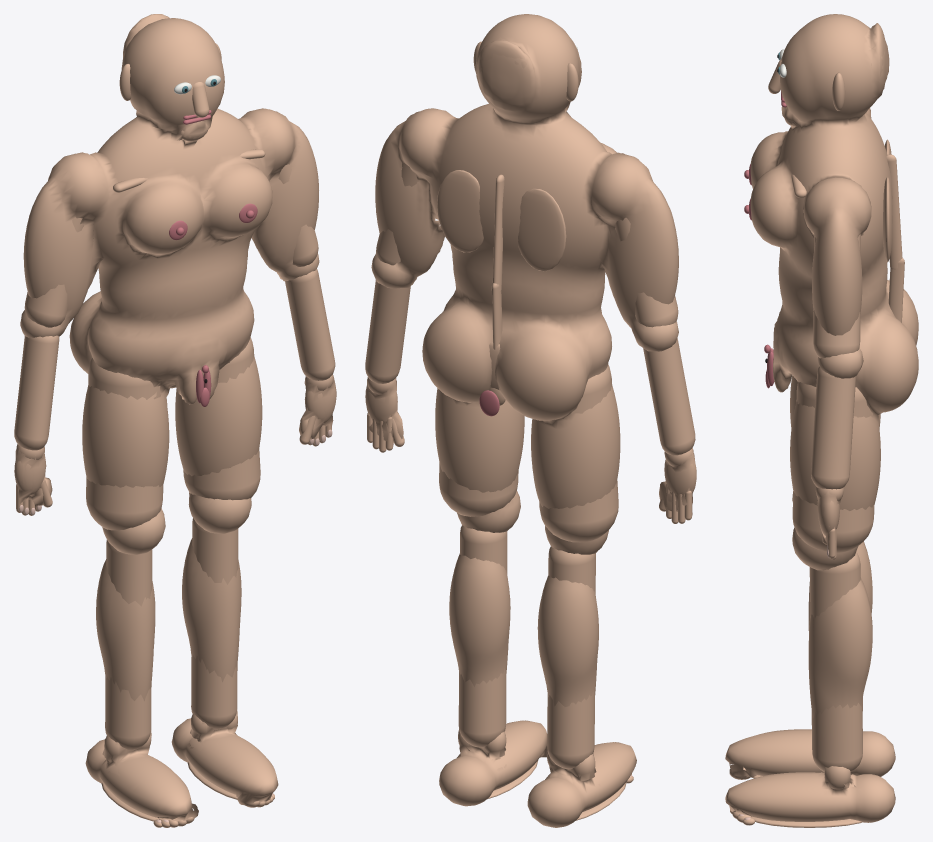
The model's file is body-junger-erwachsener-weiblich-v2.glb.
The picture shows the model from 3 angles, left to right: view 1: azimuth 30°, elevation 25°; view 2: azimuth 150°, elevation 25°; view 3: azimuth 270°, elevation 25°; orthographic projection. The views are drawn at different scales.
Parts seen in each view (by area): view 1: zone__visual-surface-body-junger-erwachsener-weiblich, zone__surface-lower-leg-right, zone__surface-lower-leg-left, zone__surface-thigh-left, zone__surface-forearm-left, zone__surface-forearm-right, zone__surface-thigh-right, zone__surface-upper-arm-left, zone__surface-upper-arm-right; view 2: zone__visual-surface-body-junger-erwachsener-weiblich, zone__surface-lower-leg-right, zone__surface-lower-leg-left, zone__surface-forearm-left, zone__surface-thigh-left, zone__surface-forearm-right, zone__surface-scapula-left, zone__surface-scapula-right, zone__surface-thigh-right, zone__surface-upper-arm-left, zone__surface-thoracic-spine, zone__surface-upper-arm-right (+2 smaller); view 3: zone__visual-surface-body-junger-erwachsener-weiblich, zone__surface-lower-leg-right, zone__surface-forearm-right, zone__surface-thigh-right, zone__surface-upper-arm-right, zone__surface-thoracic-spine, zone__surface-lumbar-spine, zone__surface-scapula-right, zone__surface-sole-right, zone__surface-ear-right.
Boxes of the visible parts, x1,y1,x2,y2 form: zone__visual-surface-body-junger-erwachsener-weiblich: (14,14,336,821); zone__surface-lower-leg-right: (191,518,238,729); zone__surface-lower-leg-left: (105,540,152,750); zone__surface-thigh-left: (86,358,163,530); zone__surface-forearm-left: (14,335,59,450); zone__surface-forearm-right: (285,269,335,380); zone__surface-thigh-right: (183,337,260,500); zone__surface-upper-arm-left: (24,217,83,327); zone__surface-upper-arm-right: (278,163,318,266); zone__visual-surface-body-junger-erwachsener-weiblich: (365,14,696,827); zone__surface-lower-leg-right: (458,525,507,747); zone__surface-lower-leg-left: (547,546,595,769); zone__surface-forearm-left: (643,338,695,455); zone__surface-thigh-left: (539,364,618,542); zone__surface-forearm-right: (365,280,410,383); zone__surface-scapula-left: (518,188,566,271); zone__surface-scapula-right: (437,170,483,252); zone__surface-thigh-right: (439,462,518,516); zone__surface-upper-arm-left: (615,217,678,327); zone__surface-thoracic-spine: (492,174,504,291); zone__surface-upper-arm-right: (376,163,419,265); zone__visual-surface-body-junger-erwachsener-weiblich: (725,14,918,822); zone__surface-lower-leg-right: (809,552,862,771); zone__surface-forearm-right: (811,366,855,489); zone__surface-thigh-right: (792,382,874,552); zone__surface-upper-arm-right: (813,234,860,358); zone__surface-thoracic-spine: (886,154,902,269); zone__surface-lumbar-spine: (888,258,904,322); zone__surface-scapula-right: (883,177,892,262); zone__surface-sole-right: (751,816,862,827); zone__surface-ear-right: (832,72,845,110).
Size of the model in its own units: 0.7606 by 1.72 by 0.3875.
